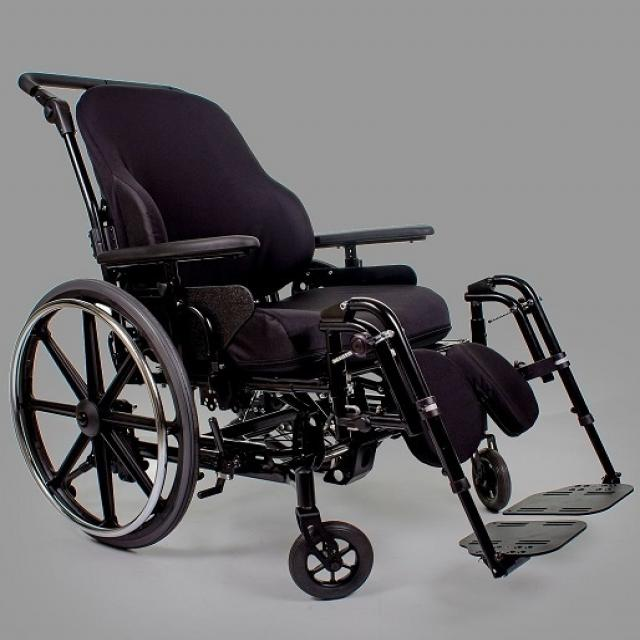wheelchair: (5, 56, 640, 619)
